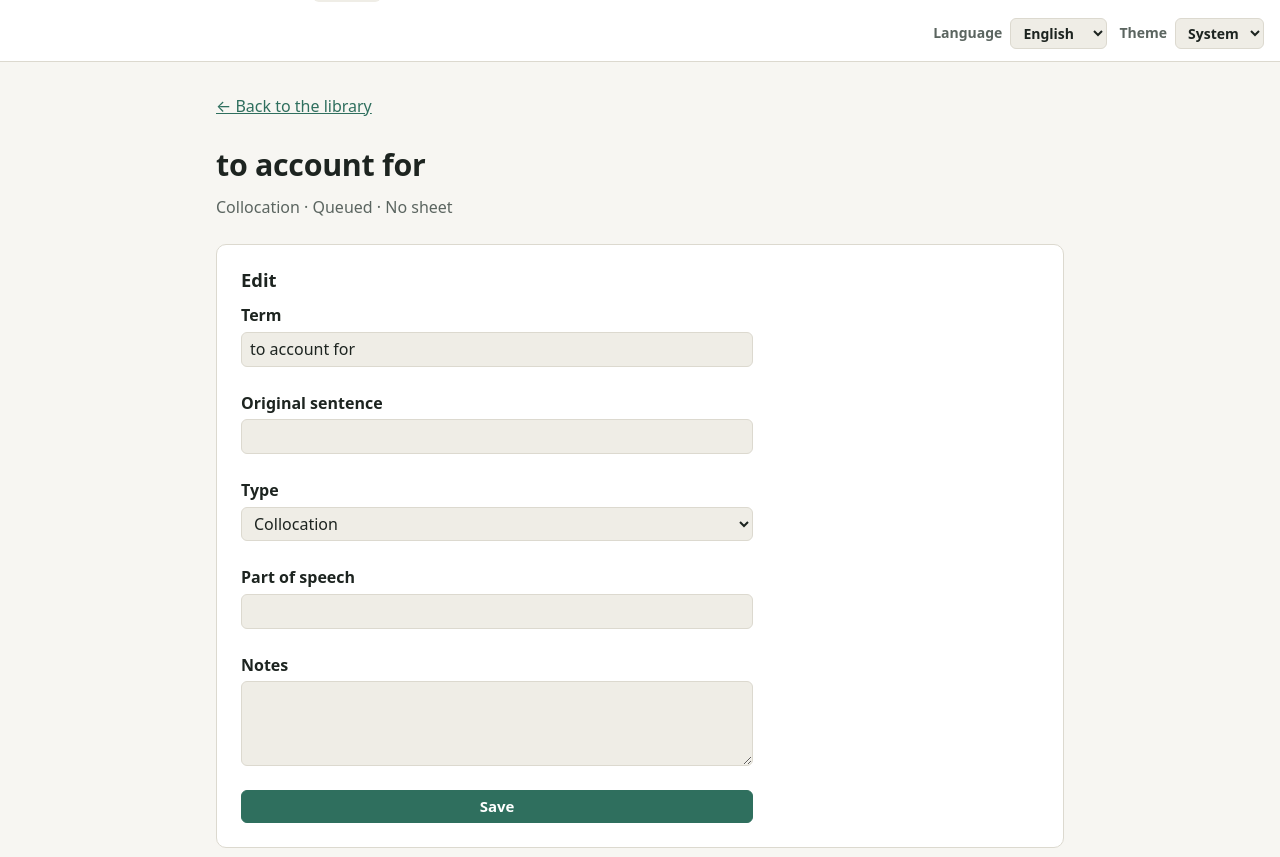
Test: item page › edits the term and saves only through PATCH
Type "Careful with the preposition." into the text box labelled "Notes". click: [497, 724]
box: [241,681,753,766]
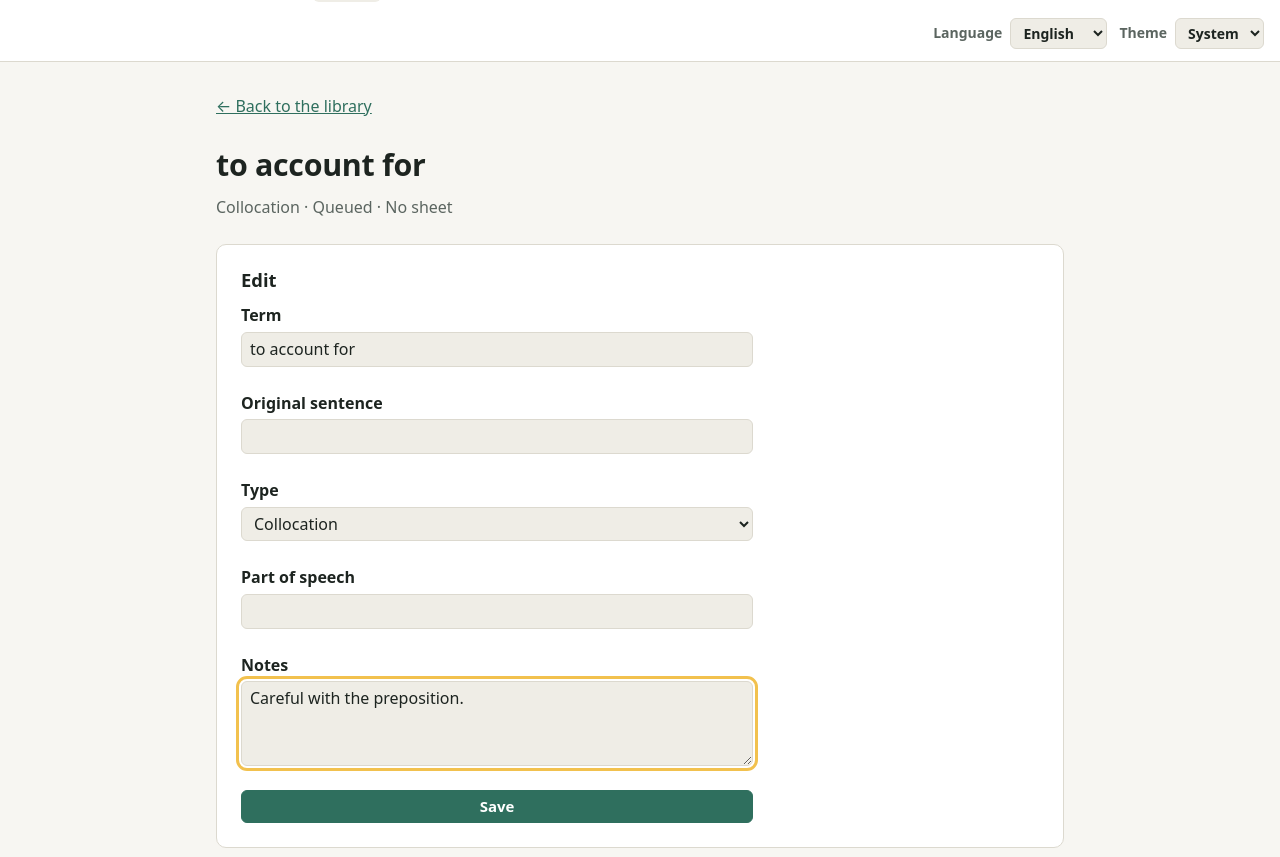
Click the button "Save". click: [497, 806]
box: [241,790,753,823]
(page scrolled)
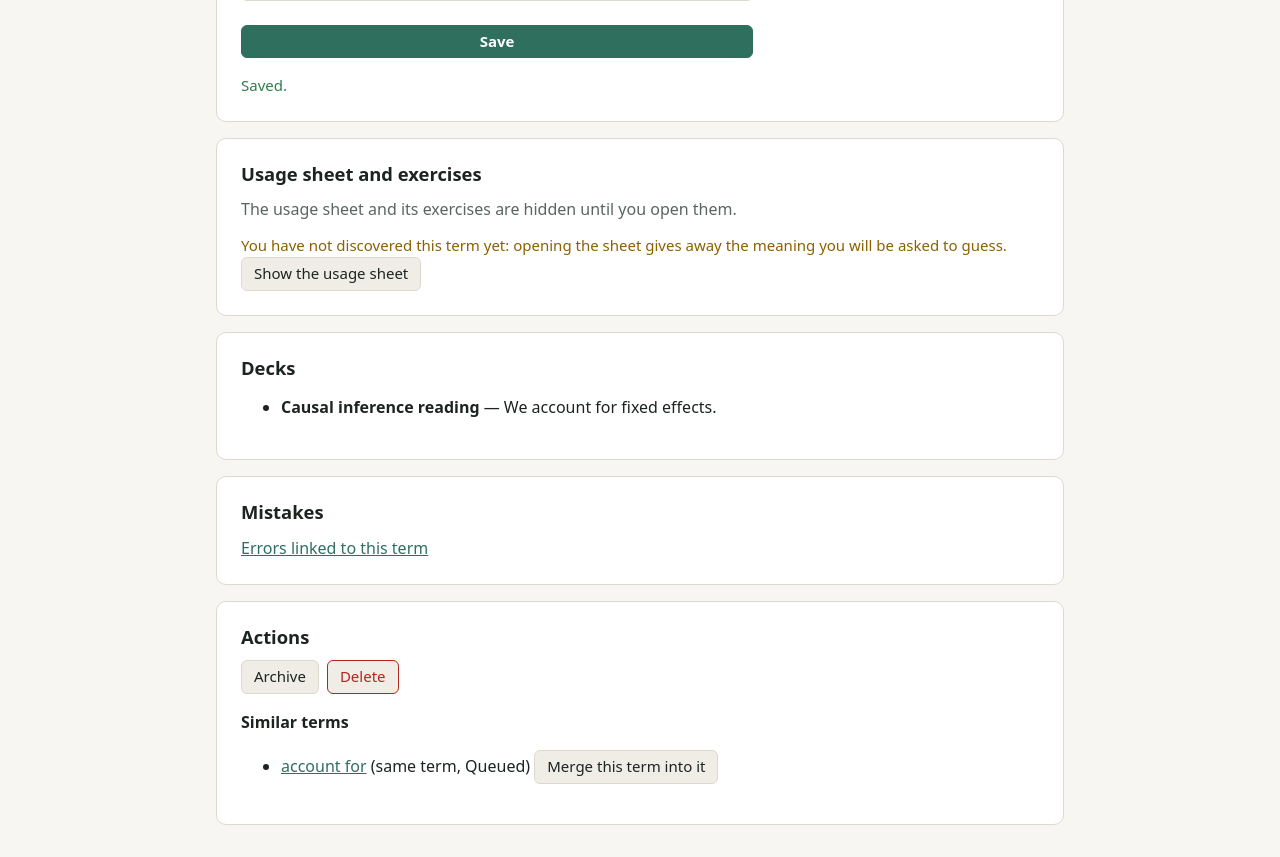
Expected: the list item "We account for fixed effects." is shown, [504,396,717,418]
Expected: the text "Saved." is shown, [241,75,287,95]
